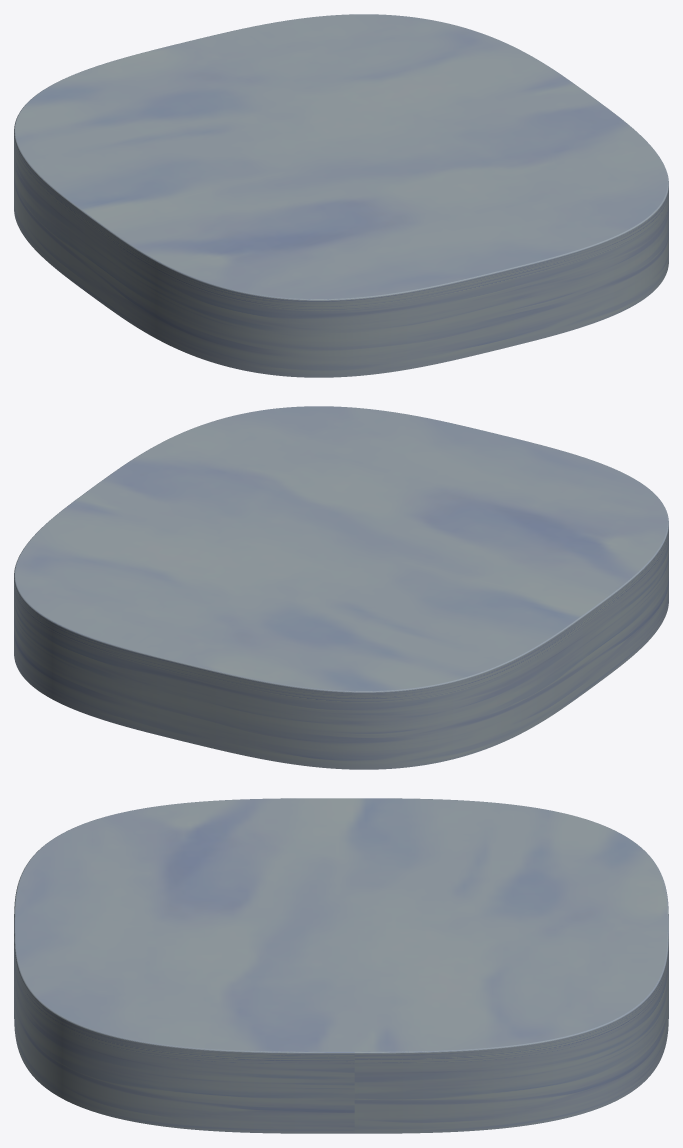
File: starter-05.glb
3 renders of one model, top to bottom at view 1: azimuth 30°, elevation 25°; view 2: azimuth 150°, elevation 25°; view 3: azimuth 270°, elevation 25°, orthographic. The views are drawn at different scales.
Parts seen in each view (by area): view 1: geometry_0; view 2: geometry_0; view 3: geometry_0.
Part boxes in pixels (x1,y1,x2,y2): geometry_0: (14, 14, 668, 377); geometry_0: (14, 406, 668, 769); geometry_0: (14, 798, 668, 1133).
Size of the model in its own units: 40.27 by 6 by 43.77.
Materials: 1 (1 with a texture image).
